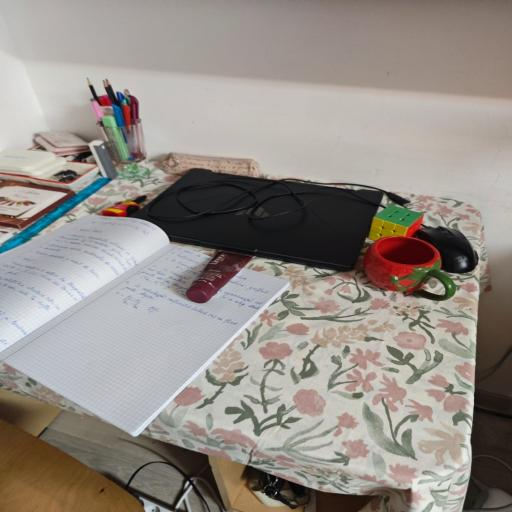Crema Maini: (185, 249, 259, 301)
Rubiks Cube: (364, 204, 420, 244)
Super Glue: (100, 195, 149, 216)
